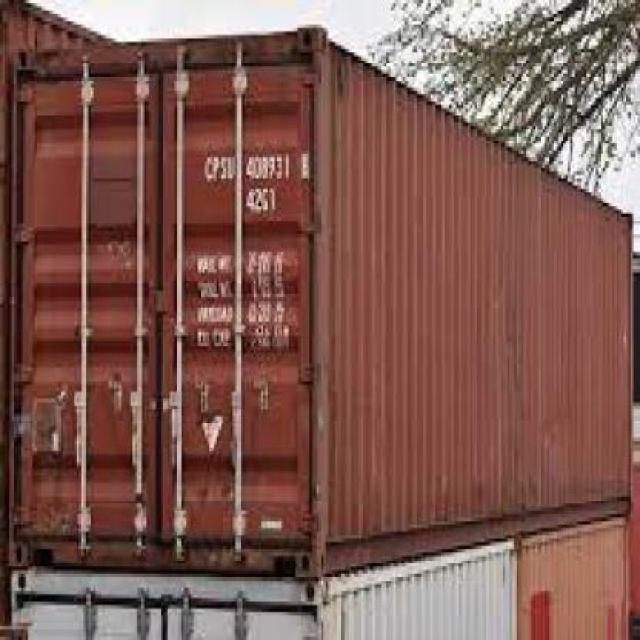ISO: (245, 188, 283, 212)
container_number: (203, 156, 310, 180)
